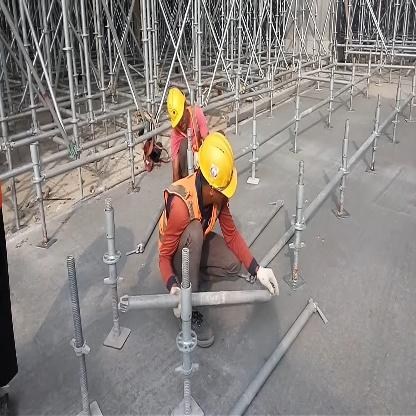helmet: (185, 131, 246, 217), (157, 82, 191, 132)
